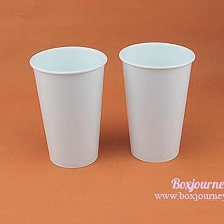paper_cup: (25, 42, 112, 171), (116, 37, 198, 166)
